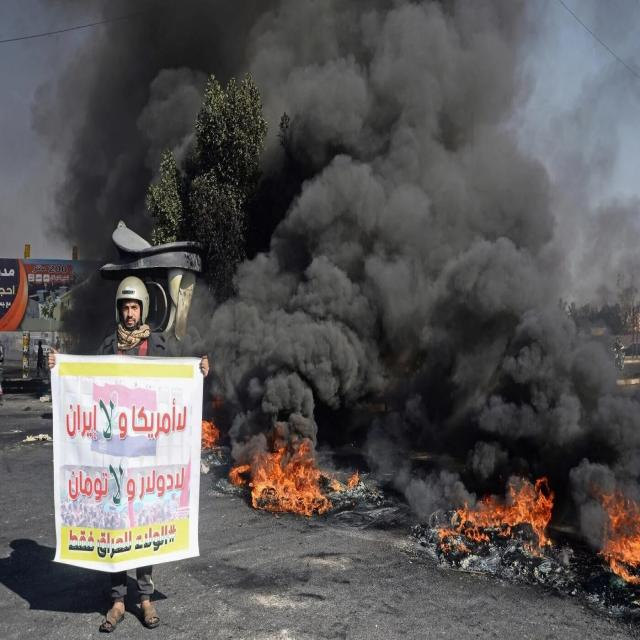fire: (229, 442, 359, 517), (439, 475, 554, 558), (604, 491, 640, 583)
